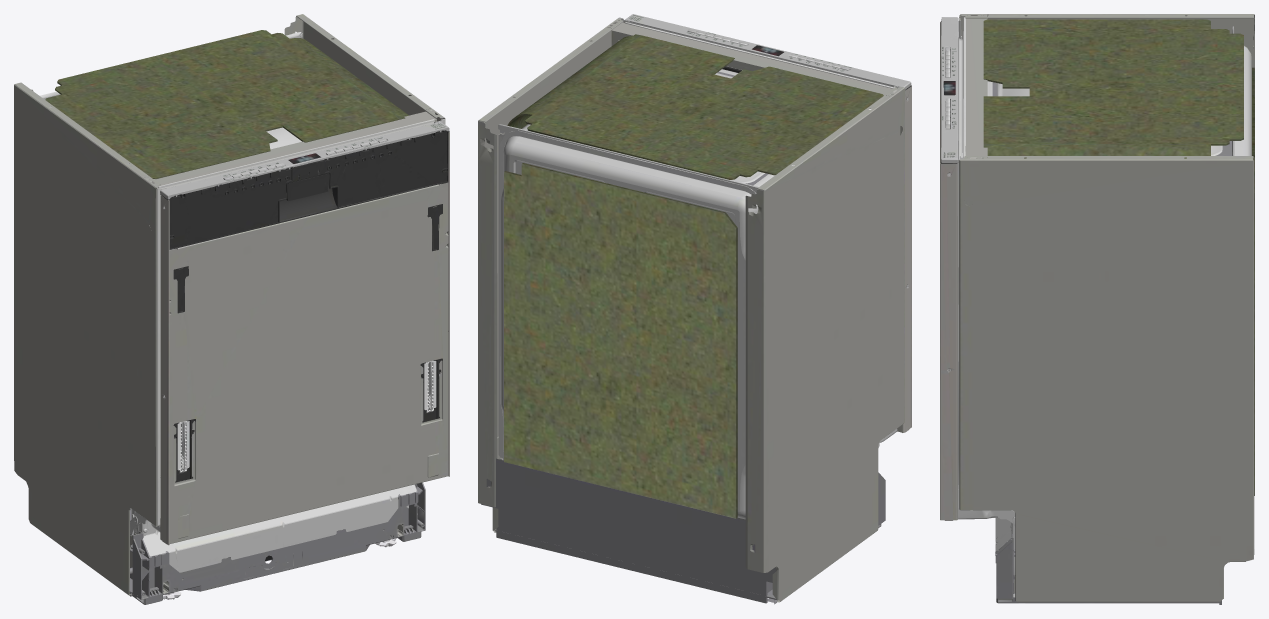
File: torsboda_zmywarka_do_zabudowy_40548088.glb
3 renders of one model, left to right at view 1: azimuth 30°, elevation 25°; view 2: azimuth 150°, elevation 25°; view 3: azimuth 270°, elevation 25°, orthographic. The views are drawn at different scales.
Parts seen in each view (by area): view 1: torsboda_zmywarka_do_zabudowy_40548088; view 2: torsboda_zmywarka_do_zabudowy_40548088; view 3: torsboda_zmywarka_do_zabudowy_40548088.
Part boxes in pixels (x1,y1,x2,y2): torsboda_zmywarka_do_zabudowy_40548088: (14, 14, 449, 604); torsboda_zmywarka_do_zabudowy_40548088: (478, 14, 911, 604); torsboda_zmywarka_do_zabudowy_40548088: (940, 14, 1254, 604).
Bounding box in the file's own units: 0.6045 × 0.8678 × 0.5505.
2 materials, 2 textured.
